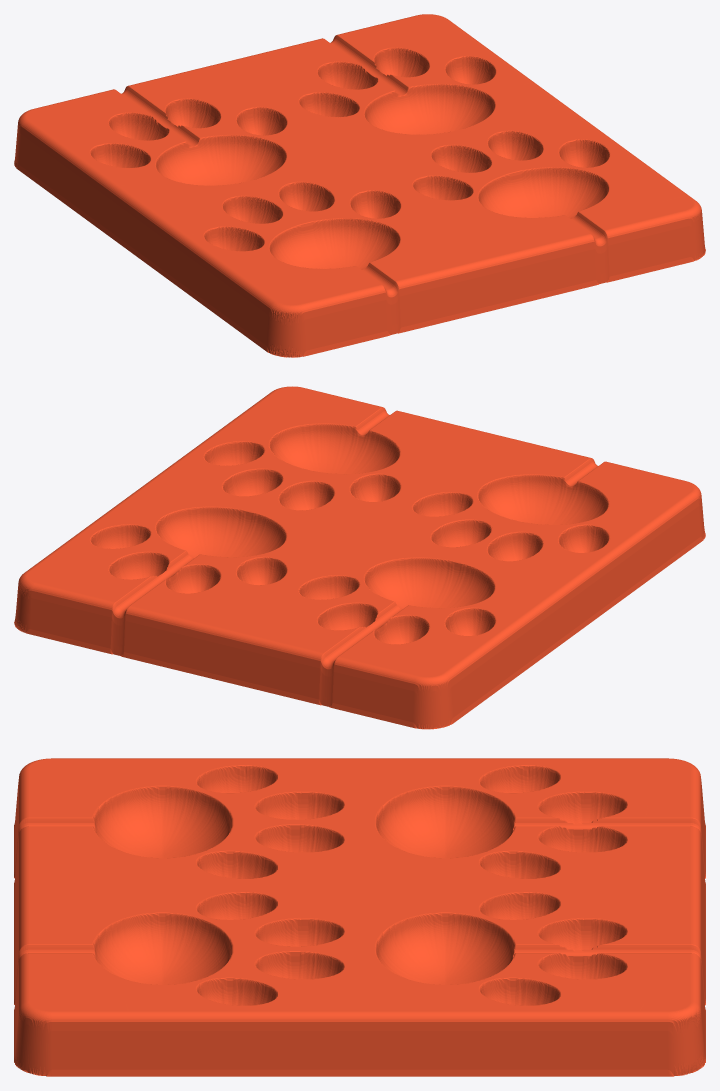
The model's file is mold.glb.
3 views of the same model, one above another, from view 1: azimuth 30°, elevation 25°; view 2: azimuth 150°, elevation 25°; view 3: azimuth 270°, elevation 25° (orthographic). The views are drawn at different scales.
Parts seen in each view (by area): view 1: geometry_0; view 2: geometry_0; view 3: geometry_0.
Boxes of the visible parts, x1,y1,x2,y2 form: geometry_0: [14, 14, 705, 357]; geometry_0: [14, 386, 705, 729]; geometry_0: [14, 758, 705, 1076].
Bounding box in the file's own units: 0.1497 × 0.0155 × 0.1654.
